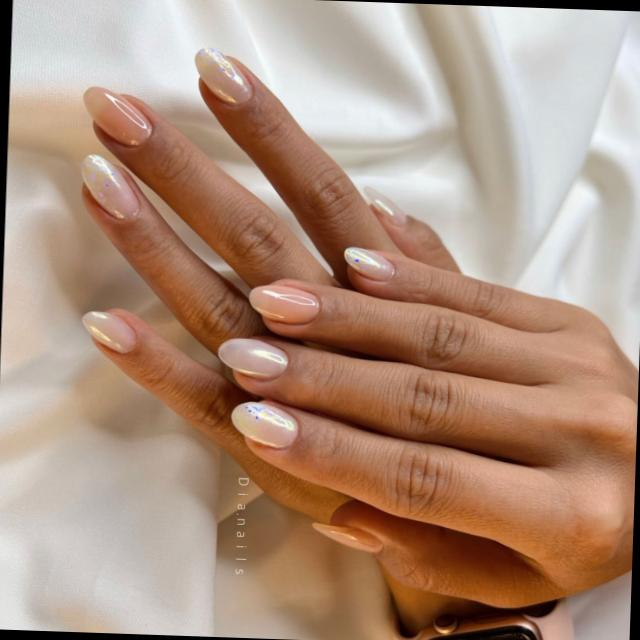Nail: (83, 87, 151, 146), (80, 154, 139, 219), (194, 47, 251, 104), (230, 402, 297, 448), (216, 337, 287, 380), (247, 284, 319, 323), (80, 311, 134, 353), (311, 522, 382, 553), (343, 247, 394, 281), (361, 186, 406, 224)
